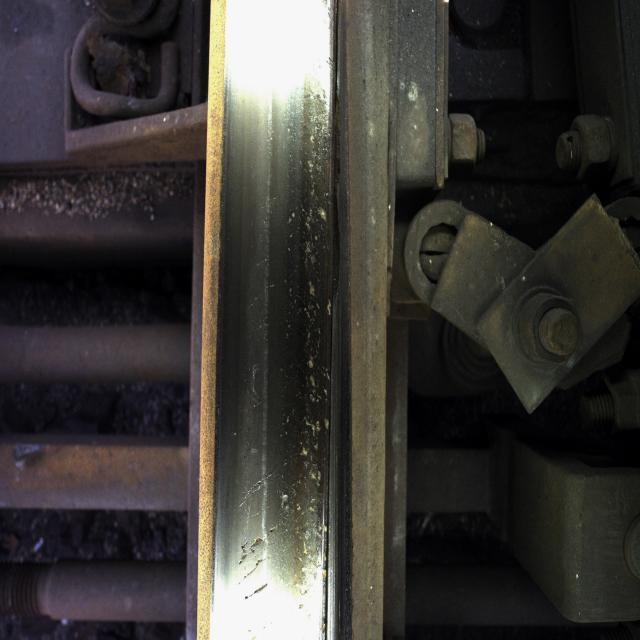scar: (221, 3, 336, 640)
